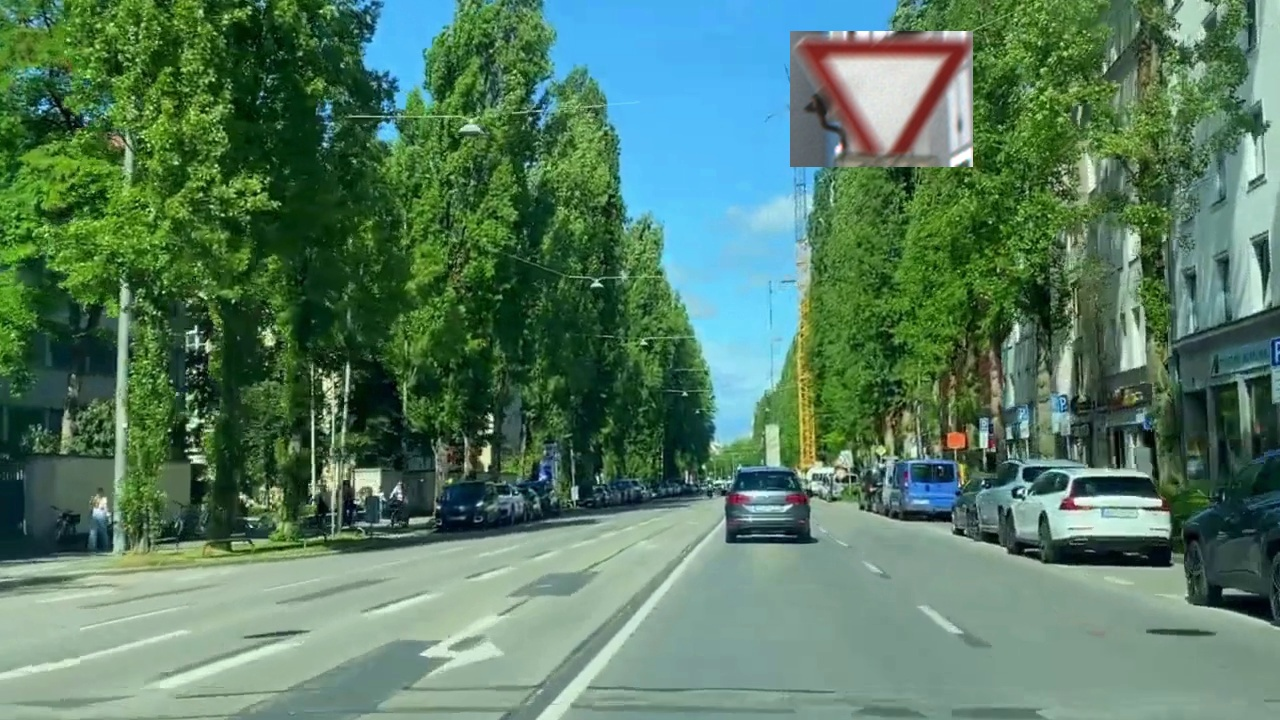Yield: (790, 31, 973, 167)
